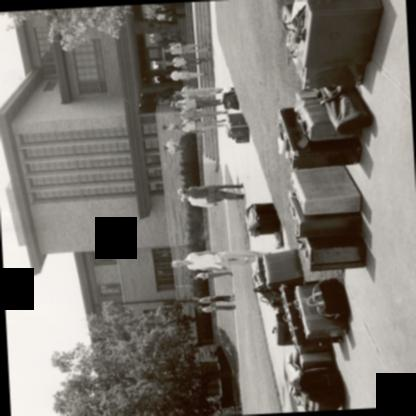handbag: (306, 276, 351, 321)
suitcase: (214, 0, 397, 415), (296, 0, 387, 71), (276, 106, 361, 168), (278, 281, 342, 348), (288, 164, 361, 214), (286, 194, 361, 237), (293, 87, 354, 139), (294, 233, 366, 274), (294, 283, 347, 338), (262, 247, 302, 287), (270, 310, 294, 345), (256, 202, 279, 234), (298, 350, 334, 370), (253, 268, 264, 286)
